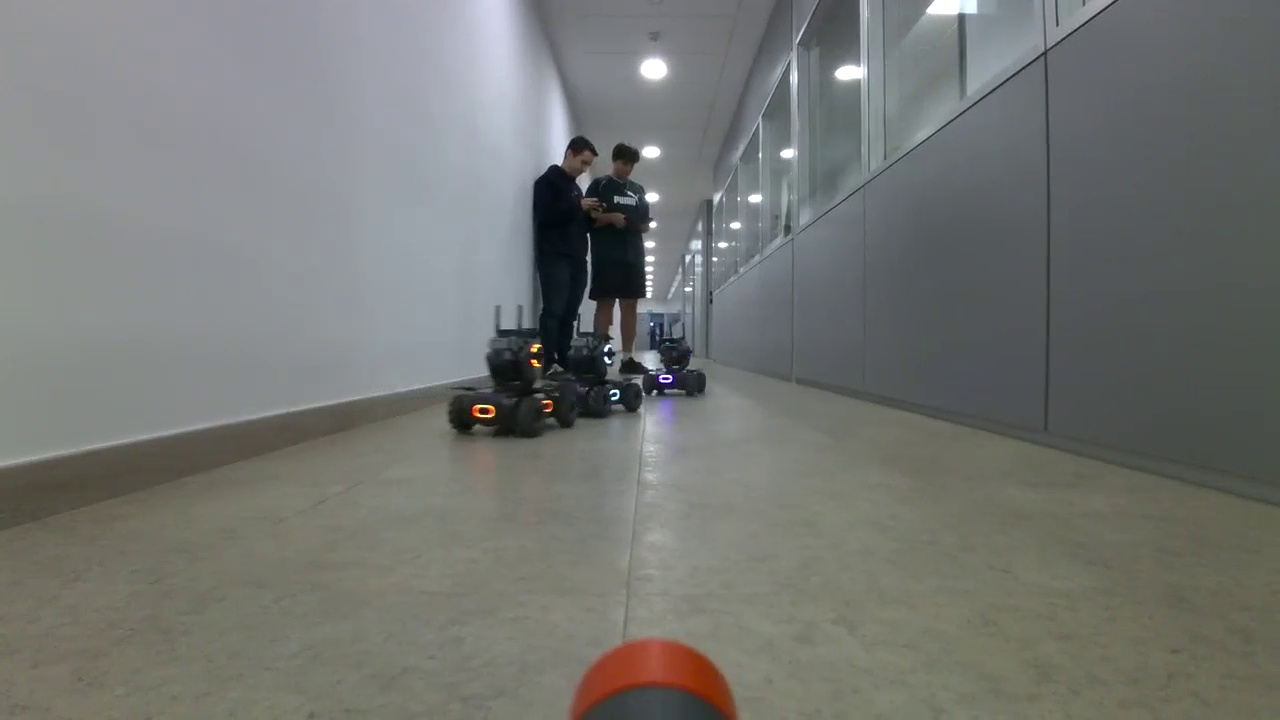robot: (447, 327, 576, 437), (562, 330, 644, 417), (642, 336, 707, 397)
